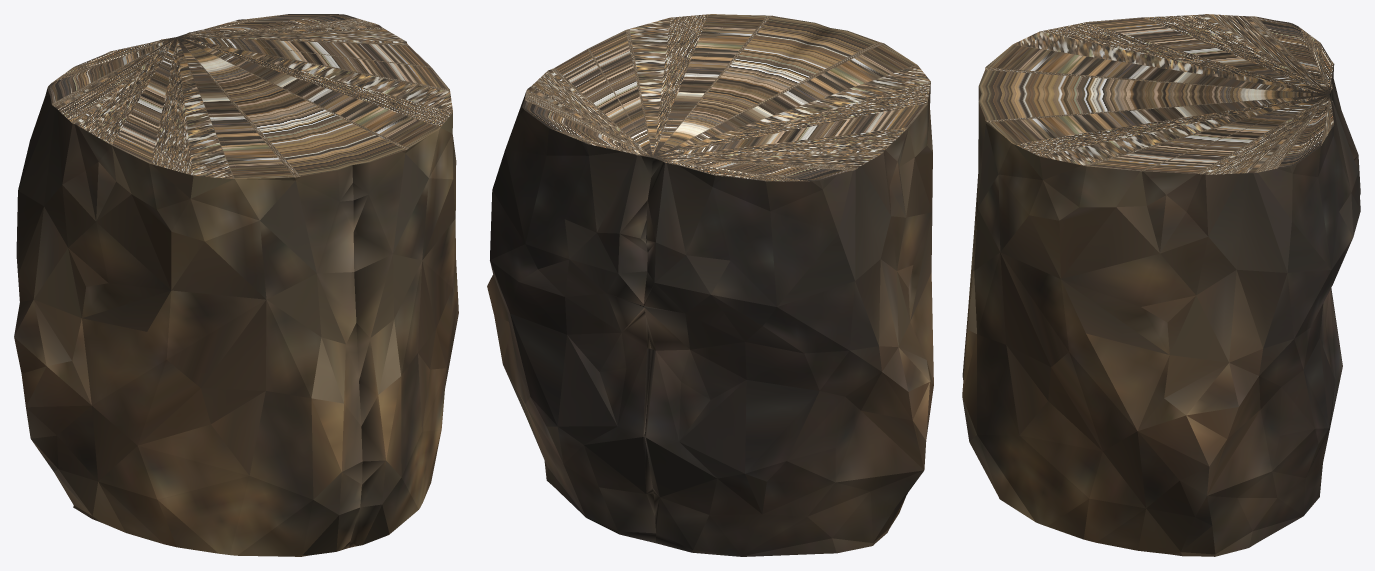
File: Sungaya_inexpectata_31mg.077.obj
3 renders of one model, left to right at view 1: azimuth 30°, elevation 25°; view 2: azimuth 150°, elevation 25°; view 3: azimuth 270°, elevation 25°, orthographic.
Visible parts, largest first — view 1: 13-a8.000_Sungaya_inexpectata_31mg.077; view 2: 13-a8.000_Sungaya_inexpectata_31mg.077; view 3: 13-a8.000_Sungaya_inexpectata_31mg.077.
Boxes of the visible parts, x1,y1,x2,y2 form: 13-a8.000_Sungaya_inexpectata_31mg.077: [14, 14, 458, 556]; 13-a8.000_Sungaya_inexpectata_31mg.077: [487, 14, 933, 556]; 13-a8.000_Sungaya_inexpectata_31mg.077: [962, 14, 1360, 556].
Size of the model in its own units: 0.0013 by 0.00114 by 0.00107.
Materials: 1 (1 with a texture image).
